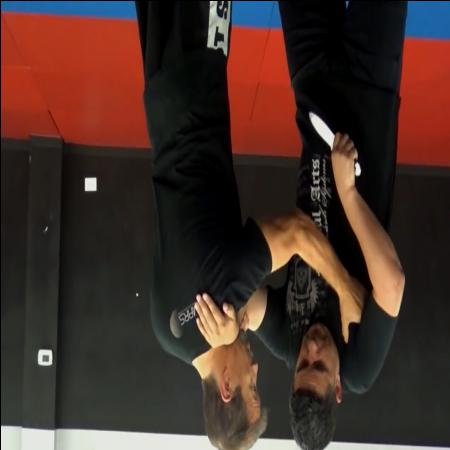long weapon: (306, 106, 362, 180)
